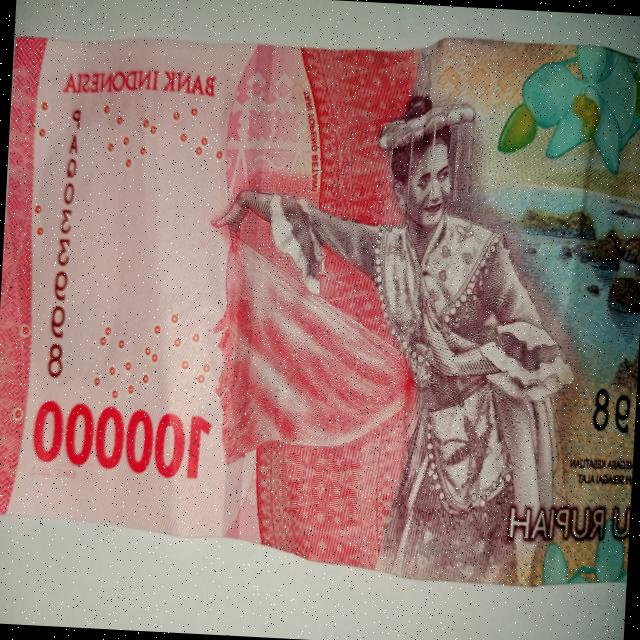100K: (0, 4, 640, 602)
